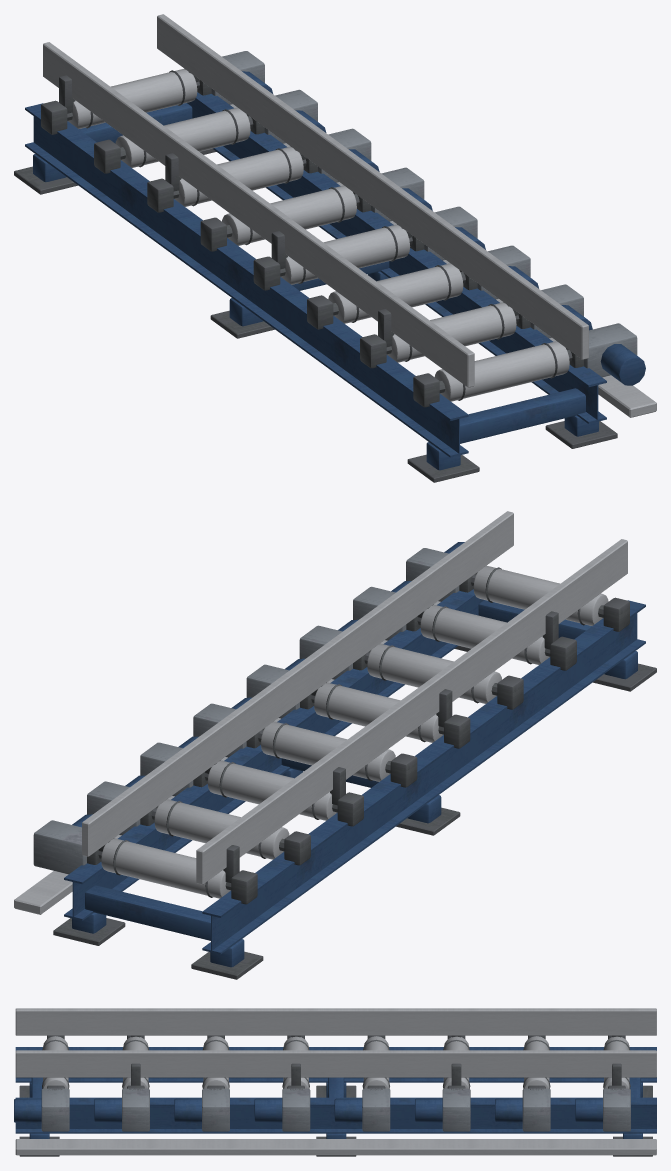
File: roller_table.glb
The picture shows the model from 3 angles, top to bottom: view 1: azimuth 30°, elevation 25°; view 2: azimuth 150°, elevation 25°; view 3: azimuth 270°, elevation 25°; orthographic projection. The views are drawn at different scales.
Visible parts, largest first — view 1: RollerTable_geo, roller_08_geo, roller_02_geo, roller_06_geo, roller_04_geo, roller_03_geo, roller_01_geo, roller_05_geo, roller_07_geo; view 2: RollerTable_geo, roller_01_geo, roller_06_geo, roller_02_geo, roller_08_geo, roller_04_geo, roller_07_geo, roller_05_geo, roller_03_geo; view 3: RollerTable_geo, roller_04_geo, roller_08_geo, roller_02_geo, roller_06_geo, roller_03_geo, roller_05_geo, roller_01_geo, roller_07_geo.
Part boxes in pixels (x1,y1,x2,y2): RollerTable_geo: (14, 14, 656, 482); roller_08_geo: (434, 341, 572, 401); roller_02_geo: (115, 107, 253, 167); roller_06_geo: (328, 263, 465, 323); roller_04_geo: (222, 185, 359, 245); roller_03_geo: (173, 146, 306, 206); roller_01_geo: (67, 69, 199, 128); roller_05_geo: (280, 224, 412, 284); roller_07_geo: (386, 302, 519, 362); RollerTable_geo: (14, 511, 656, 979); roller_01_geo: (98, 838, 231, 898); roller_06_geo: (364, 643, 501, 703); roller_02_geo: (151, 799, 289, 859); roller_08_geo: (471, 565, 608, 625); roller_04_geo: (258, 721, 395, 781); roller_07_geo: (417, 604, 550, 664); roller_05_geo: (311, 682, 443, 742); roller_03_geo: (205, 760, 337, 820); RollerTable_geo: (14, 1008, 656, 1156); roller_04_geo: (362, 1036, 389, 1088); roller_08_geo: (42, 1036, 69, 1088); roller_02_geo: (523, 1036, 550, 1088); roller_06_geo: (202, 1036, 229, 1088); roller_03_geo: (443, 1036, 470, 1088); roller_05_geo: (282, 1036, 309, 1088); roller_01_geo: (603, 1036, 630, 1088); roller_07_geo: (122, 1036, 149, 1088).
Bounding box in the file's own units: 2.4 × 1.27 × 8.02.
4 materials, 4 textured.
